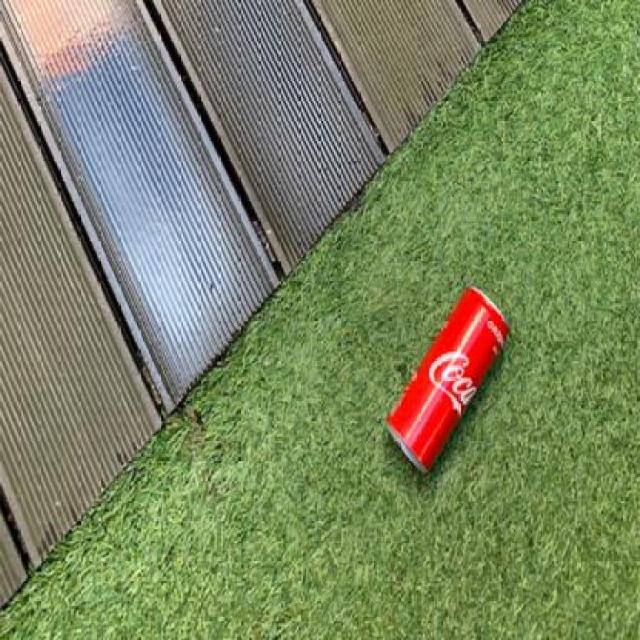Metal: (386, 287, 510, 478)
